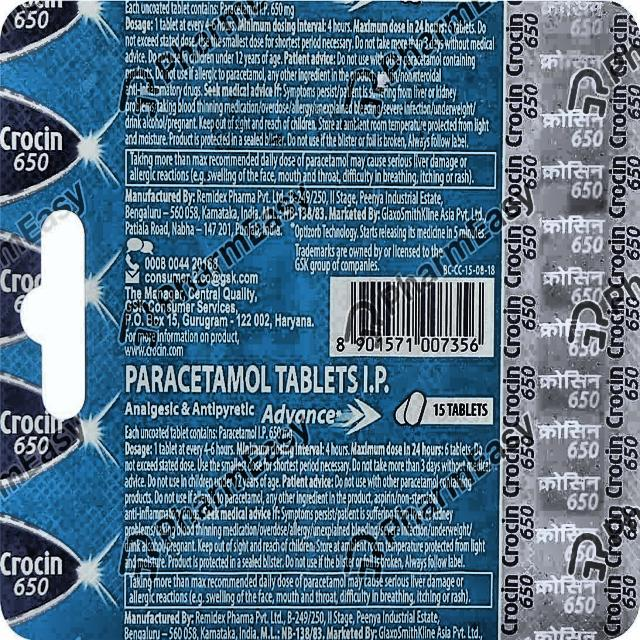Crocin: (1, 5, 128, 640)
